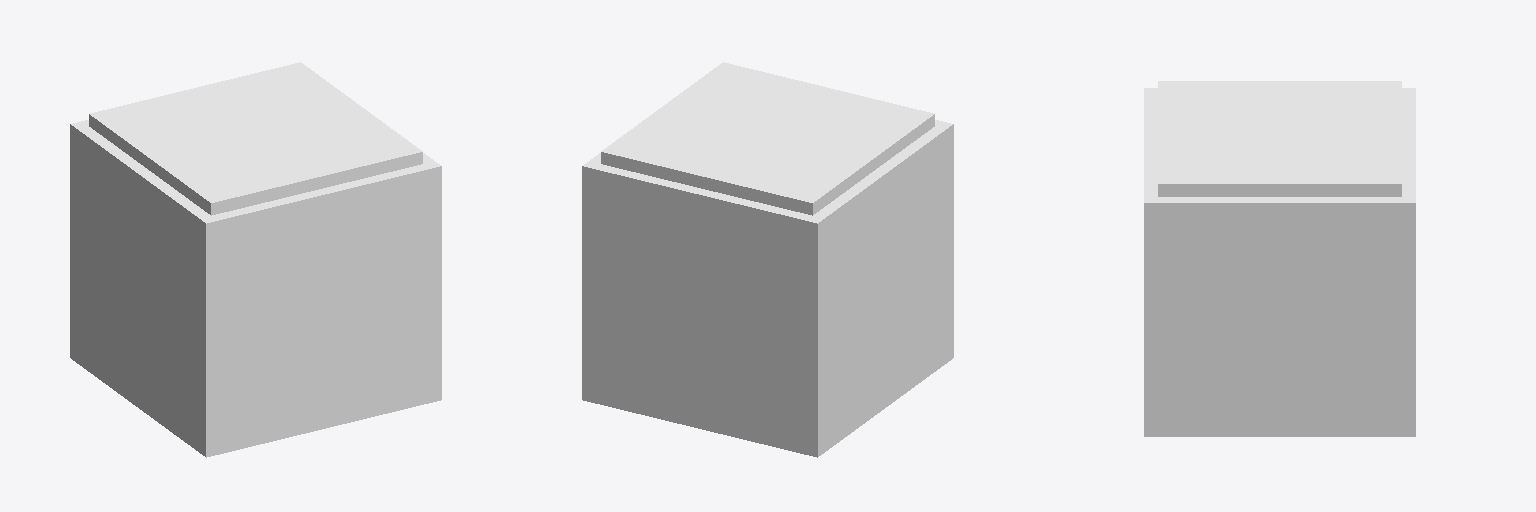
Rendered from FloorTile.obj.
The picture shows the model from 3 angles: view 1: azimuth 30°, elevation 25°; view 2: azimuth 150°, elevation 25°; view 3: azimuth 270°, elevation 25°; orthographic projection.
Parts seen in each view (by area): view 1: FloorTile; view 2: FloorTile; view 3: FloorTile.
Part boxes in pixels (left/top/right/bottom): FloorTile: left=70, top=62, right=441, bottom=457; FloorTile: left=582, top=62, right=953, bottom=457; FloorTile: left=1144, top=81, right=1415, bottom=436.
Bounding box in the file's own units: 20 × 20 × 20.